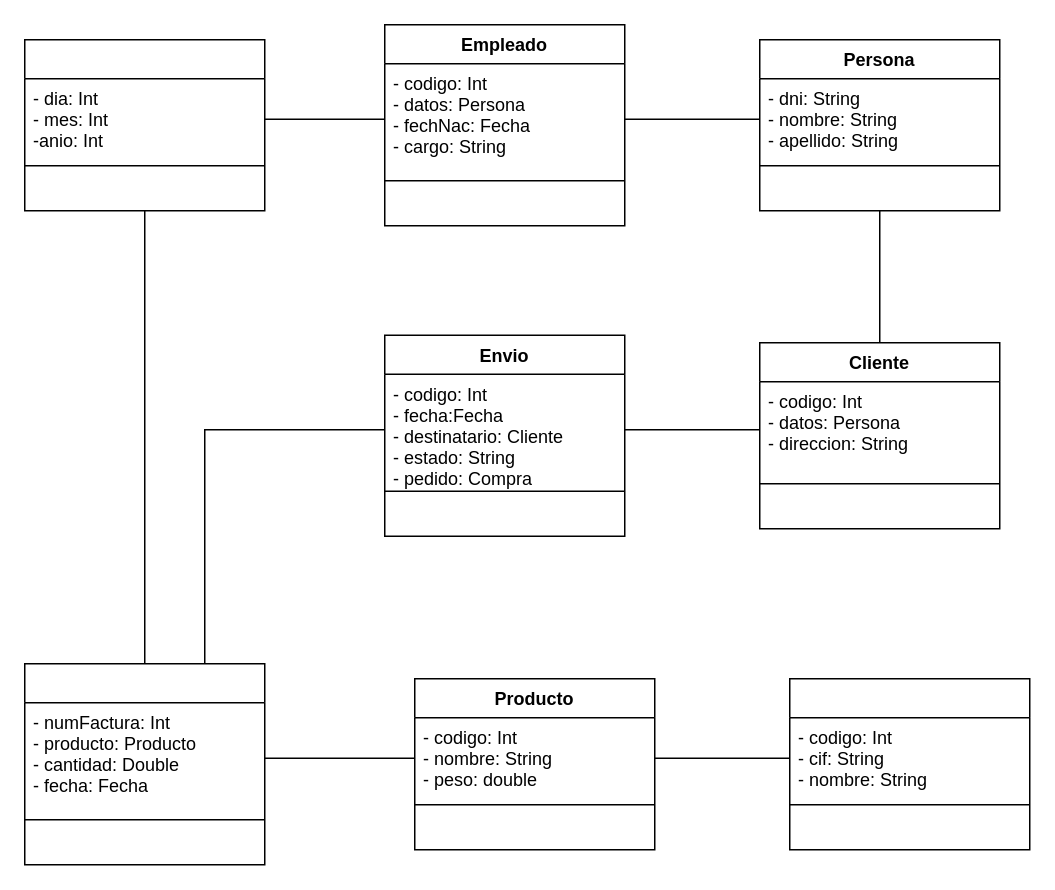
The diagram is 1055 pixels wide and 890 high, and some of its shapes have lost their labels. Each missing label, with the box of its shape:
Compra: (23, 662, 265, 865)
Fecha: (23, 38, 265, 211)
Proveedor: (788, 677, 1030, 850)
